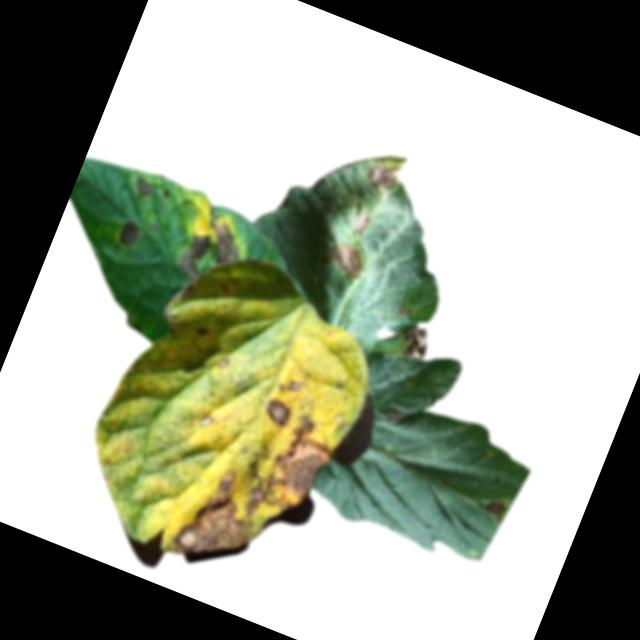Early_blight: (230, 400, 343, 537), (169, 459, 271, 575), (173, 208, 252, 293), (389, 318, 435, 364), (326, 238, 369, 280), (365, 156, 403, 191), (111, 212, 144, 249), (261, 396, 294, 427), (127, 175, 155, 200), (482, 494, 509, 519)
